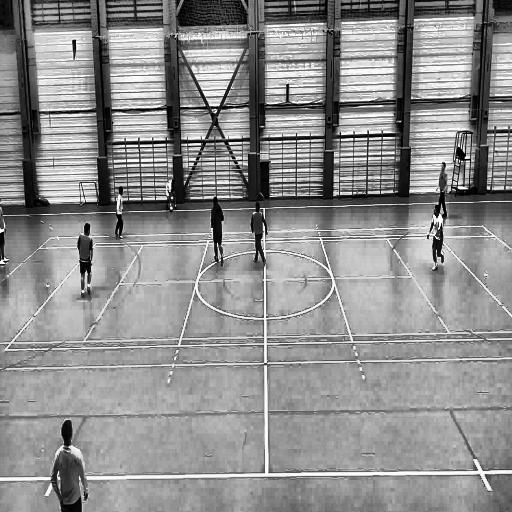ball: (168, 205, 175, 215)
player: (49, 416, 90, 512), (426, 205, 447, 274), (250, 199, 269, 274), (210, 194, 228, 268), (78, 221, 94, 301), (112, 186, 126, 243), (0, 196, 11, 268), (435, 160, 448, 220)
